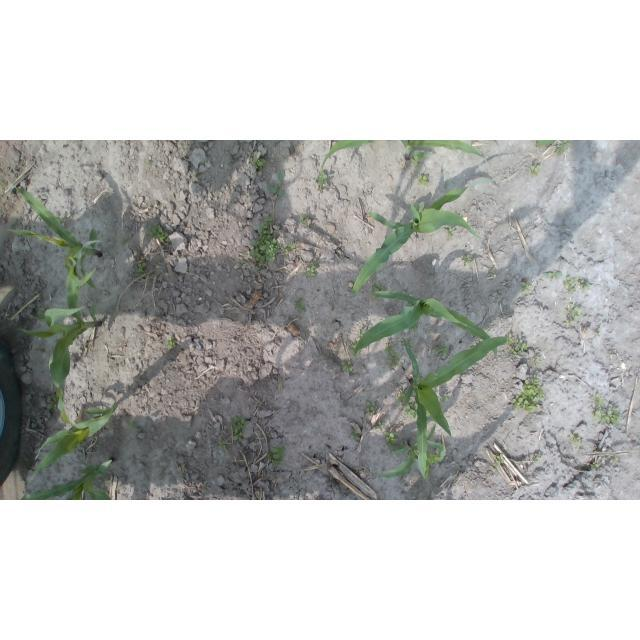Maize: (17, 256, 118, 436), (402, 335, 519, 485), (352, 179, 501, 295), (6, 185, 103, 293), (352, 292, 498, 361), (26, 401, 114, 486), (321, 140, 496, 177), (365, 420, 446, 478), (19, 456, 117, 500)
Weeds: (250, 216, 281, 264), (511, 379, 545, 414), (590, 394, 622, 427), (537, 140, 572, 154), (267, 171, 285, 198), (506, 333, 528, 355), (302, 258, 325, 278), (565, 277, 591, 294), (566, 303, 585, 326), (268, 444, 287, 467), (231, 418, 247, 443), (149, 225, 170, 244), (386, 344, 401, 368), (432, 342, 449, 358), (384, 431, 399, 448), (406, 404, 421, 419), (372, 280, 385, 296), (397, 388, 410, 404), (460, 253, 474, 267), (136, 263, 149, 278), (493, 453, 506, 467), (253, 157, 266, 170), (569, 433, 581, 447), (528, 165, 542, 177), (165, 336, 176, 351), (317, 171, 327, 187), (296, 299, 307, 313), (281, 243, 295, 254), (543, 272, 561, 280), (341, 361, 353, 373), (410, 155, 421, 167), (417, 174, 427, 187), (521, 282, 532, 293), (444, 227, 456, 237), (366, 402, 376, 413), (129, 420, 139, 431), (375, 421, 385, 431), (533, 453, 543, 463), (218, 440, 229, 449), (490, 266, 498, 278), (349, 430, 359, 437), (590, 462, 598, 470), (443, 394, 451, 402), (299, 215, 306, 224), (324, 291, 330, 297), (147, 160, 150, 166)
